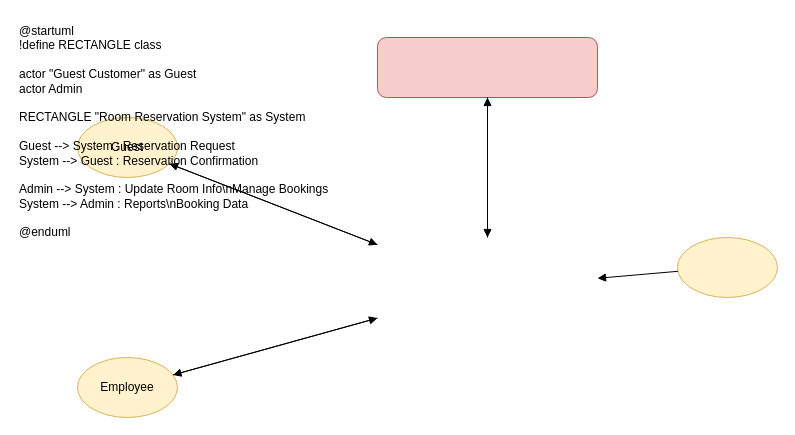
This 795x435 diagram has some shape labels left out. The shapes that lost their labels are listed below. From the top down, each one's centre as x and y in pixels, then its label:
[487,67]: Credit Authorization System
[727,267]: Admin
